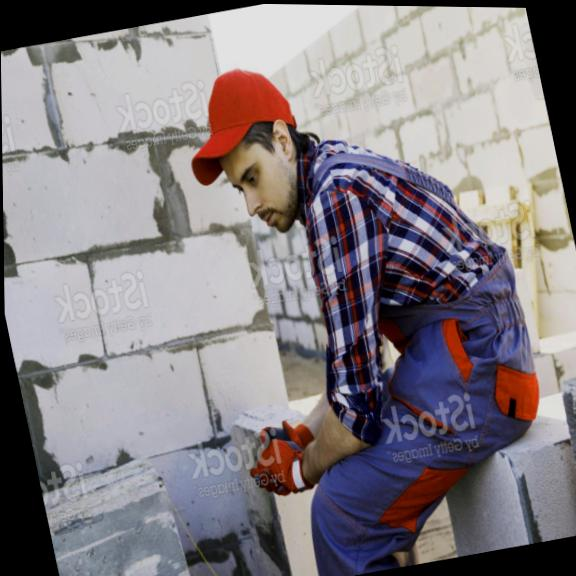no_safety_vest: (273, 94, 547, 466)
